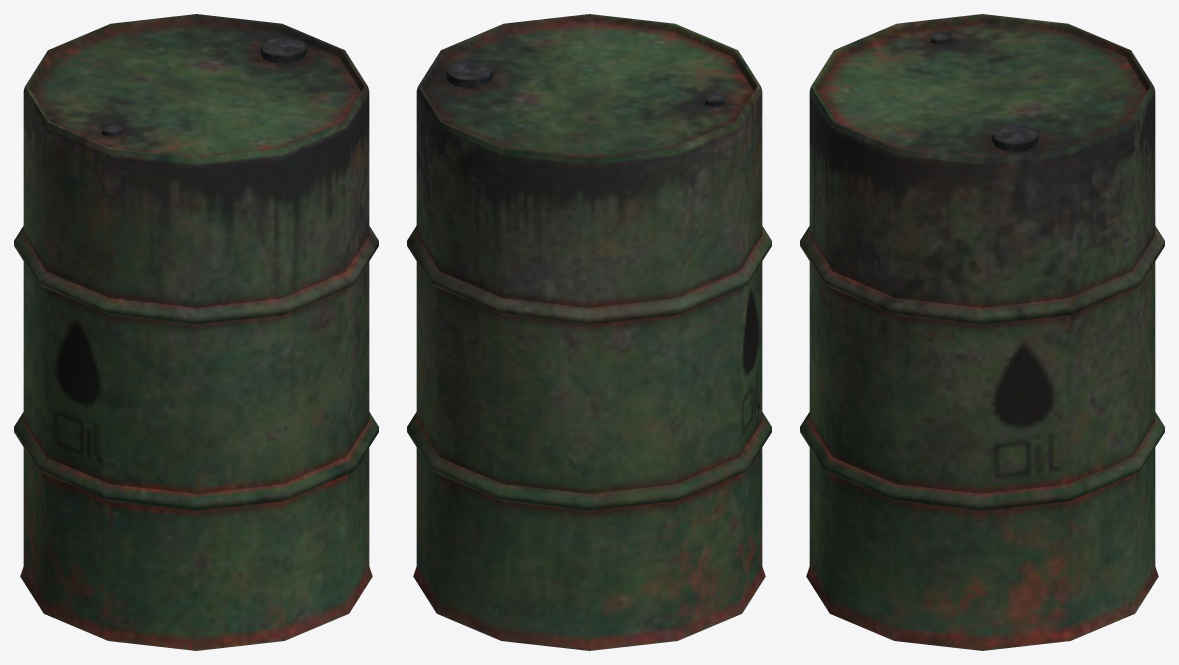
File: OilBarrel.FBX
The picture shows the model from 3 angles, left to right: view 1: azimuth 30°, elevation 25°; view 2: azimuth 150°, elevation 25°; view 3: azimuth 270°, elevation 25°; orthographic projection.
Parts seen in each view (by area): view 1: OilBarrel; view 2: OilBarrel; view 3: OilBarrel.
Boxes of the visible parts, left/top/right/bottom form: OilBarrel: left=14, top=14, right=378, bottom=650; OilBarrel: left=407, top=14, right=771, bottom=650; OilBarrel: left=800, top=14, right=1164, bottom=650.
Size of the model in its own units: 56.72 by 84.54 by 56.72.
